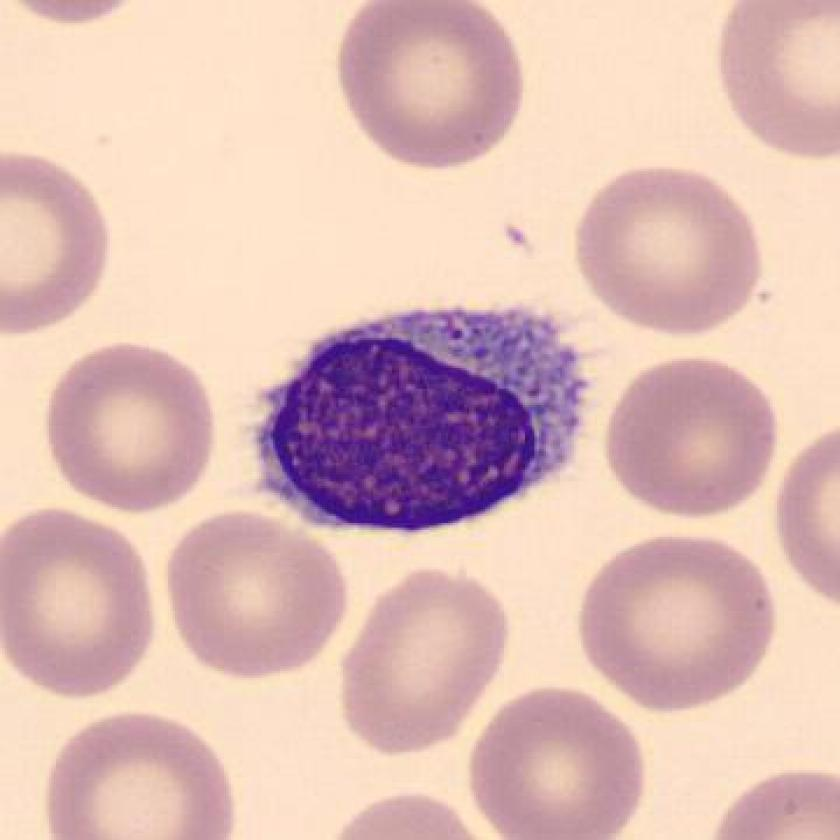lymphocyte: (246, 281, 603, 549)
